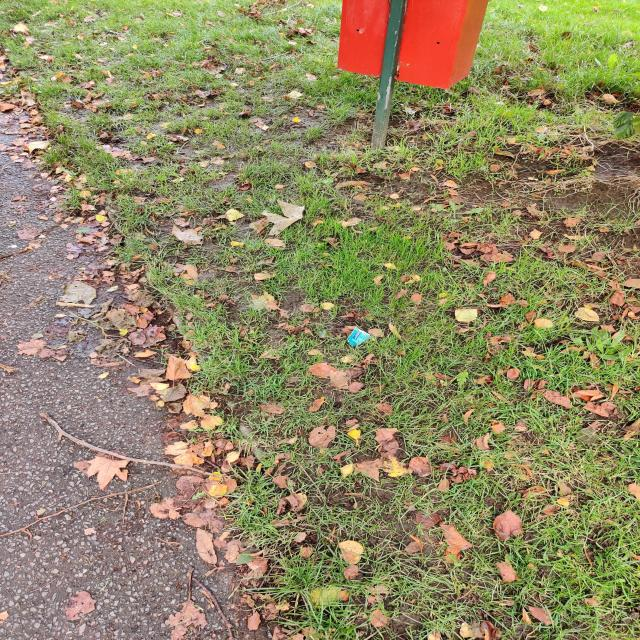litter: (336, 321, 388, 356)
